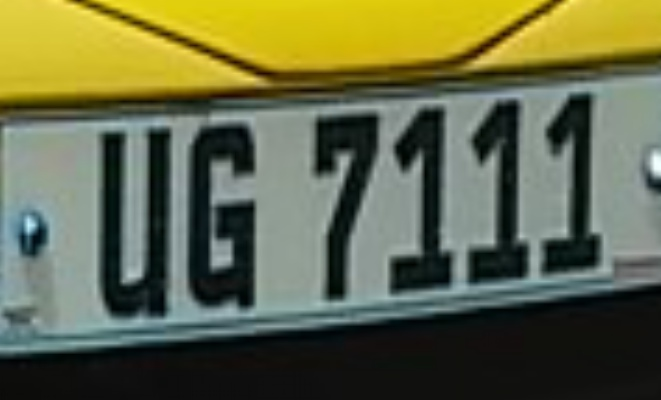1: (378, 87, 468, 308), (453, 83, 546, 294), (528, 78, 621, 282)
7: (298, 93, 391, 325)
G: (178, 106, 275, 326)
U: (86, 103, 183, 334)
